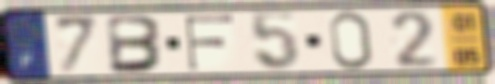0: (327, 8, 376, 73)
2: (387, 9, 441, 70)
5: (245, 10, 304, 73)
7: (54, 13, 100, 77)
B: (106, 14, 167, 75)
F: (182, 13, 237, 72)
